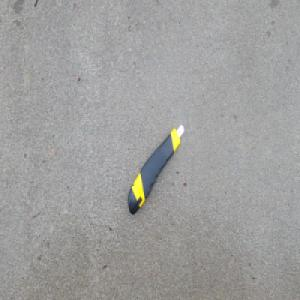Cutter: (127, 121, 185, 217)
